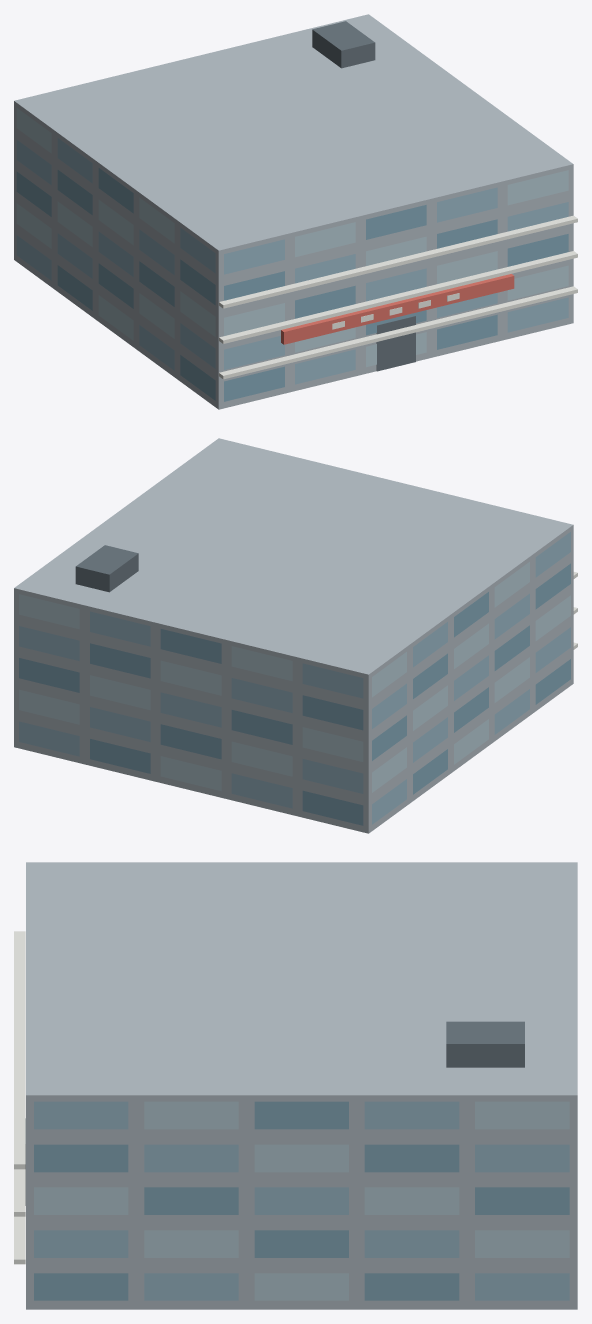
The model's file is korea-building-6-compact.glb.
3 renders of one model, top to bottom at view 1: azimuth 30°, elevation 25°; view 2: azimuth 150°, elevation 25°; view 3: azimuth 270°, elevation 25°, orthographic. The views are drawn at different scales.
Bounding box in the file's own units: 10.52 × 5 × 10.74.
